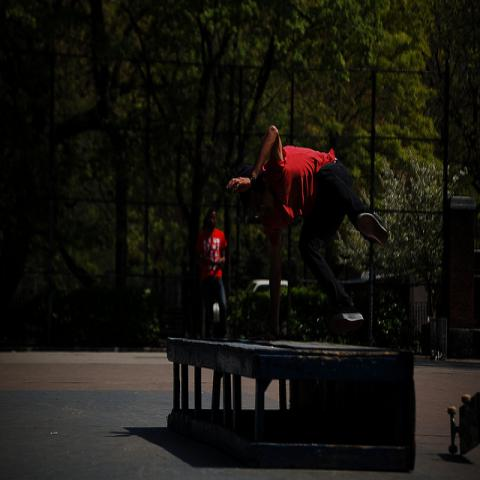car: (246, 280, 288, 292)
